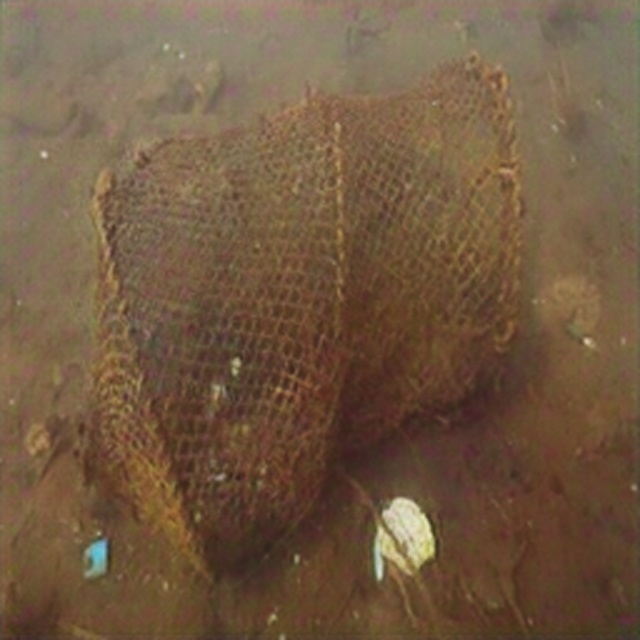mine: (71, 48, 520, 591)
